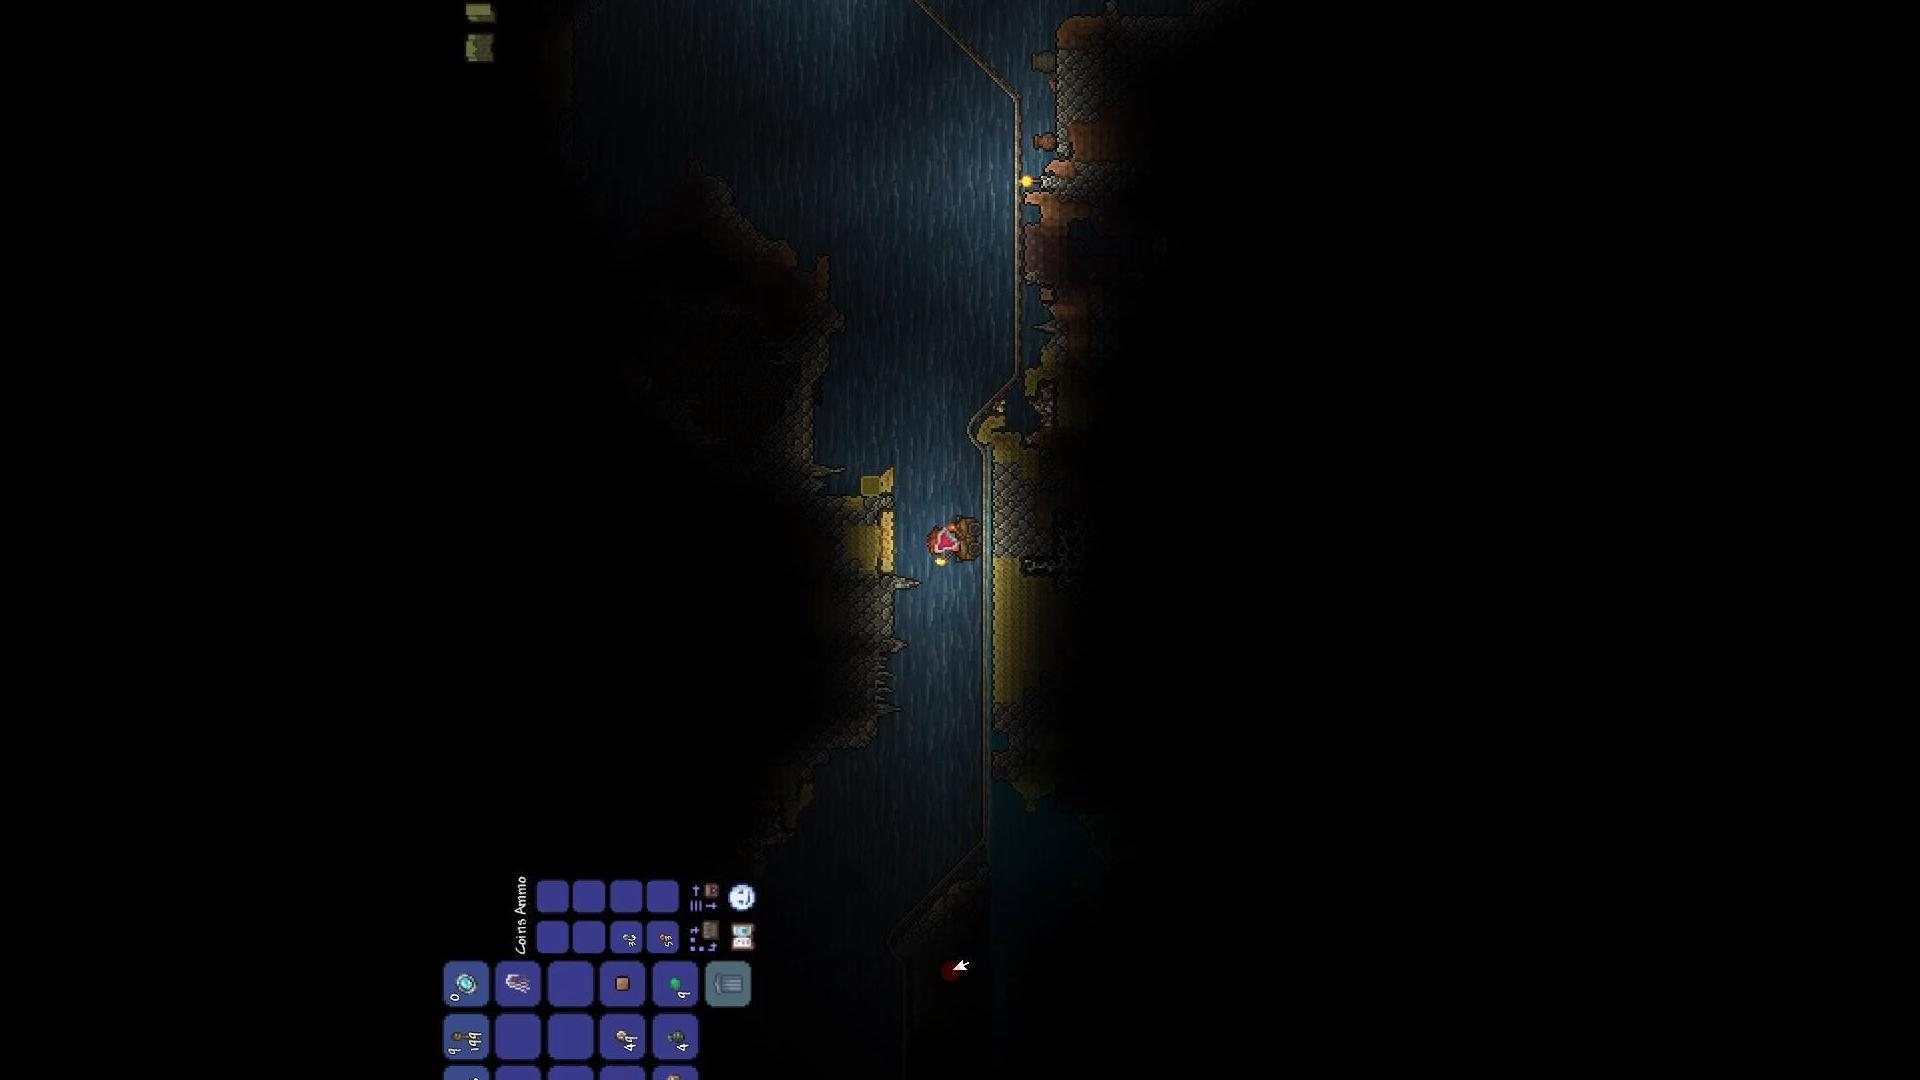pot: (1029, 41, 1062, 96), (1023, 113, 1056, 158)
